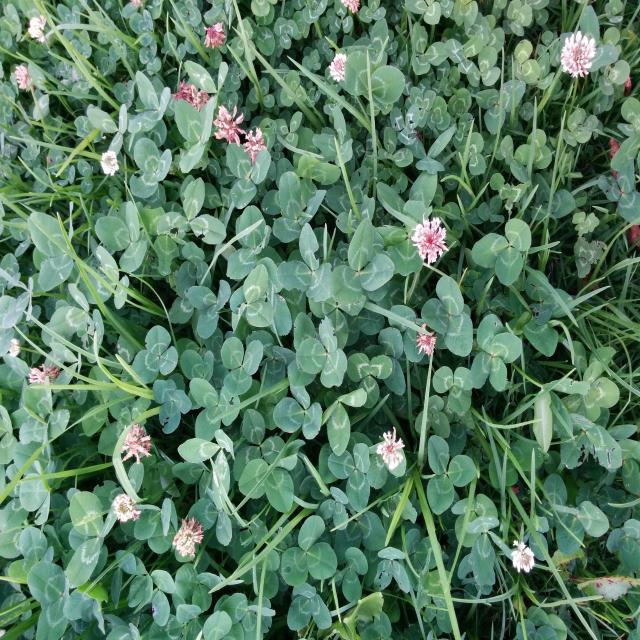Four Leaf Clover: (470, 314, 522, 391)
